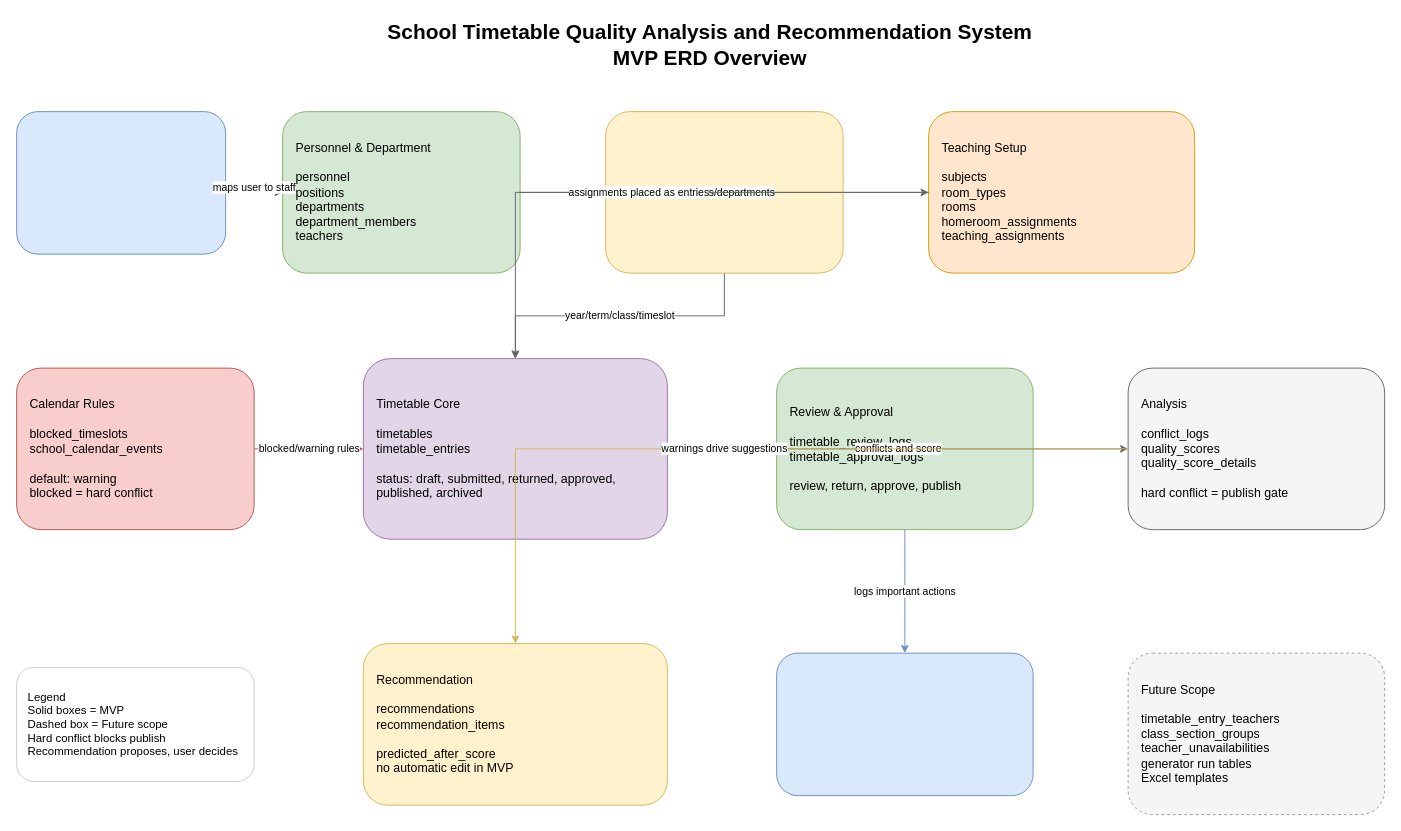
This 1401x831 diagram has some shape labels left out. Here are the shapes that lost their labels. From the top down, the box of each, then its label:
(16, 111, 226, 254): Identity & RBAC users roles permissions role_user
(605, 111, 843, 273): Academic Setup academic_years terms grade_levels class_sections timeslots
(776, 652, 1033, 796): Audit / Optional AI audit_logs ai_prompt_logs AI = explanation only
